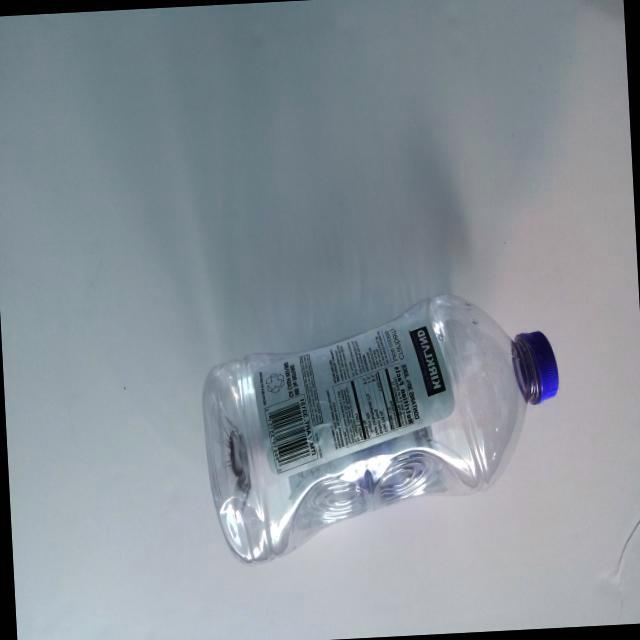plastic: (156, 268, 588, 640)
